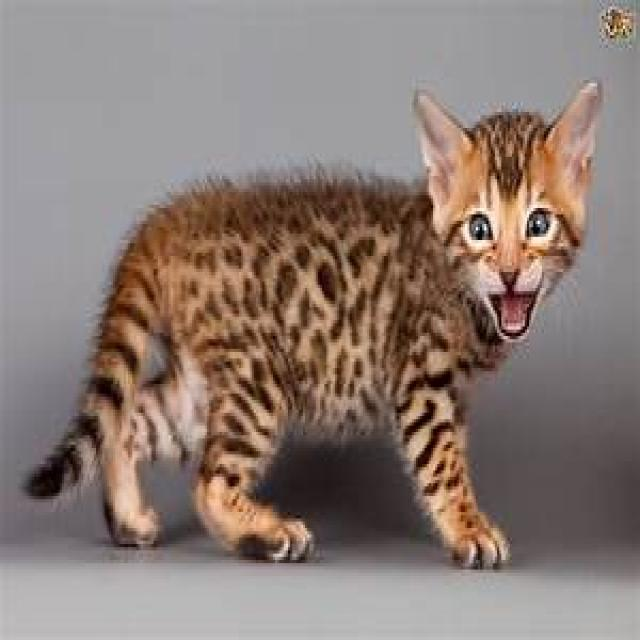cat: (21, 76, 604, 570)
